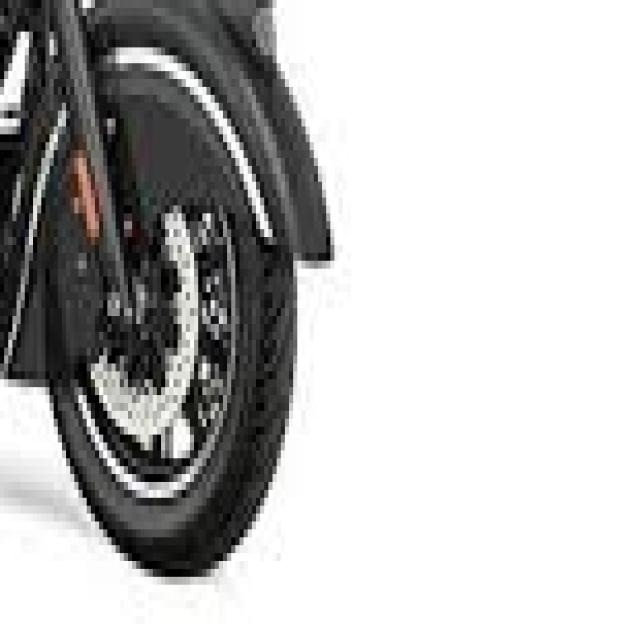bike: (0, 0, 343, 577)
